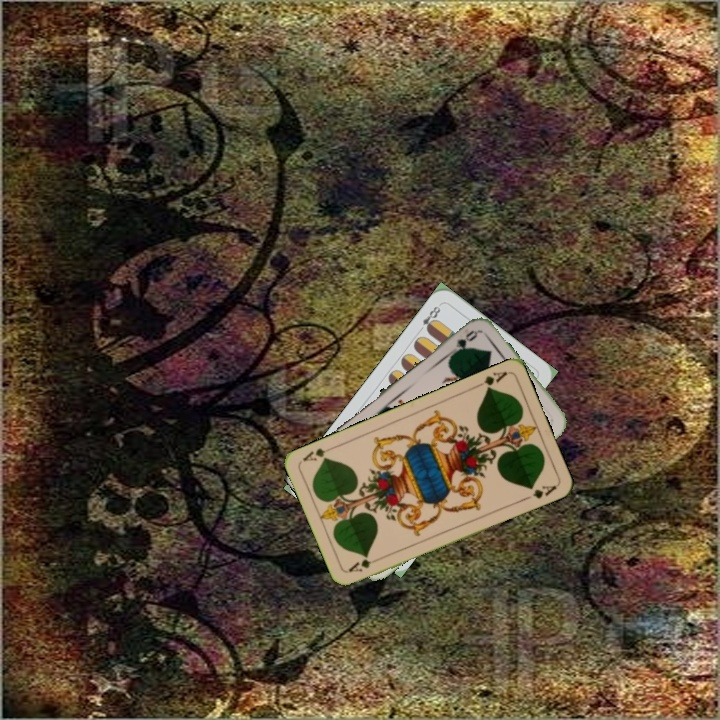E8: (414, 300, 444, 335)
GA: (471, 367, 510, 394), (344, 555, 384, 575)
GO: (445, 326, 480, 359)
